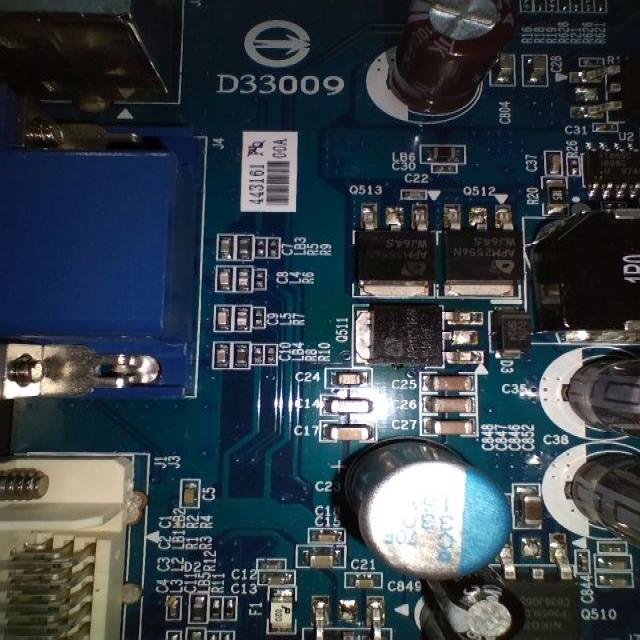capacitor: (515, 485, 546, 525), (423, 374, 478, 394), (323, 422, 367, 443), (430, 419, 479, 436), (427, 399, 478, 413), (218, 271, 238, 303), (218, 230, 235, 262), (308, 553, 334, 569), (182, 484, 197, 504)
resistor: (265, 337, 280, 370), (267, 236, 285, 256)
